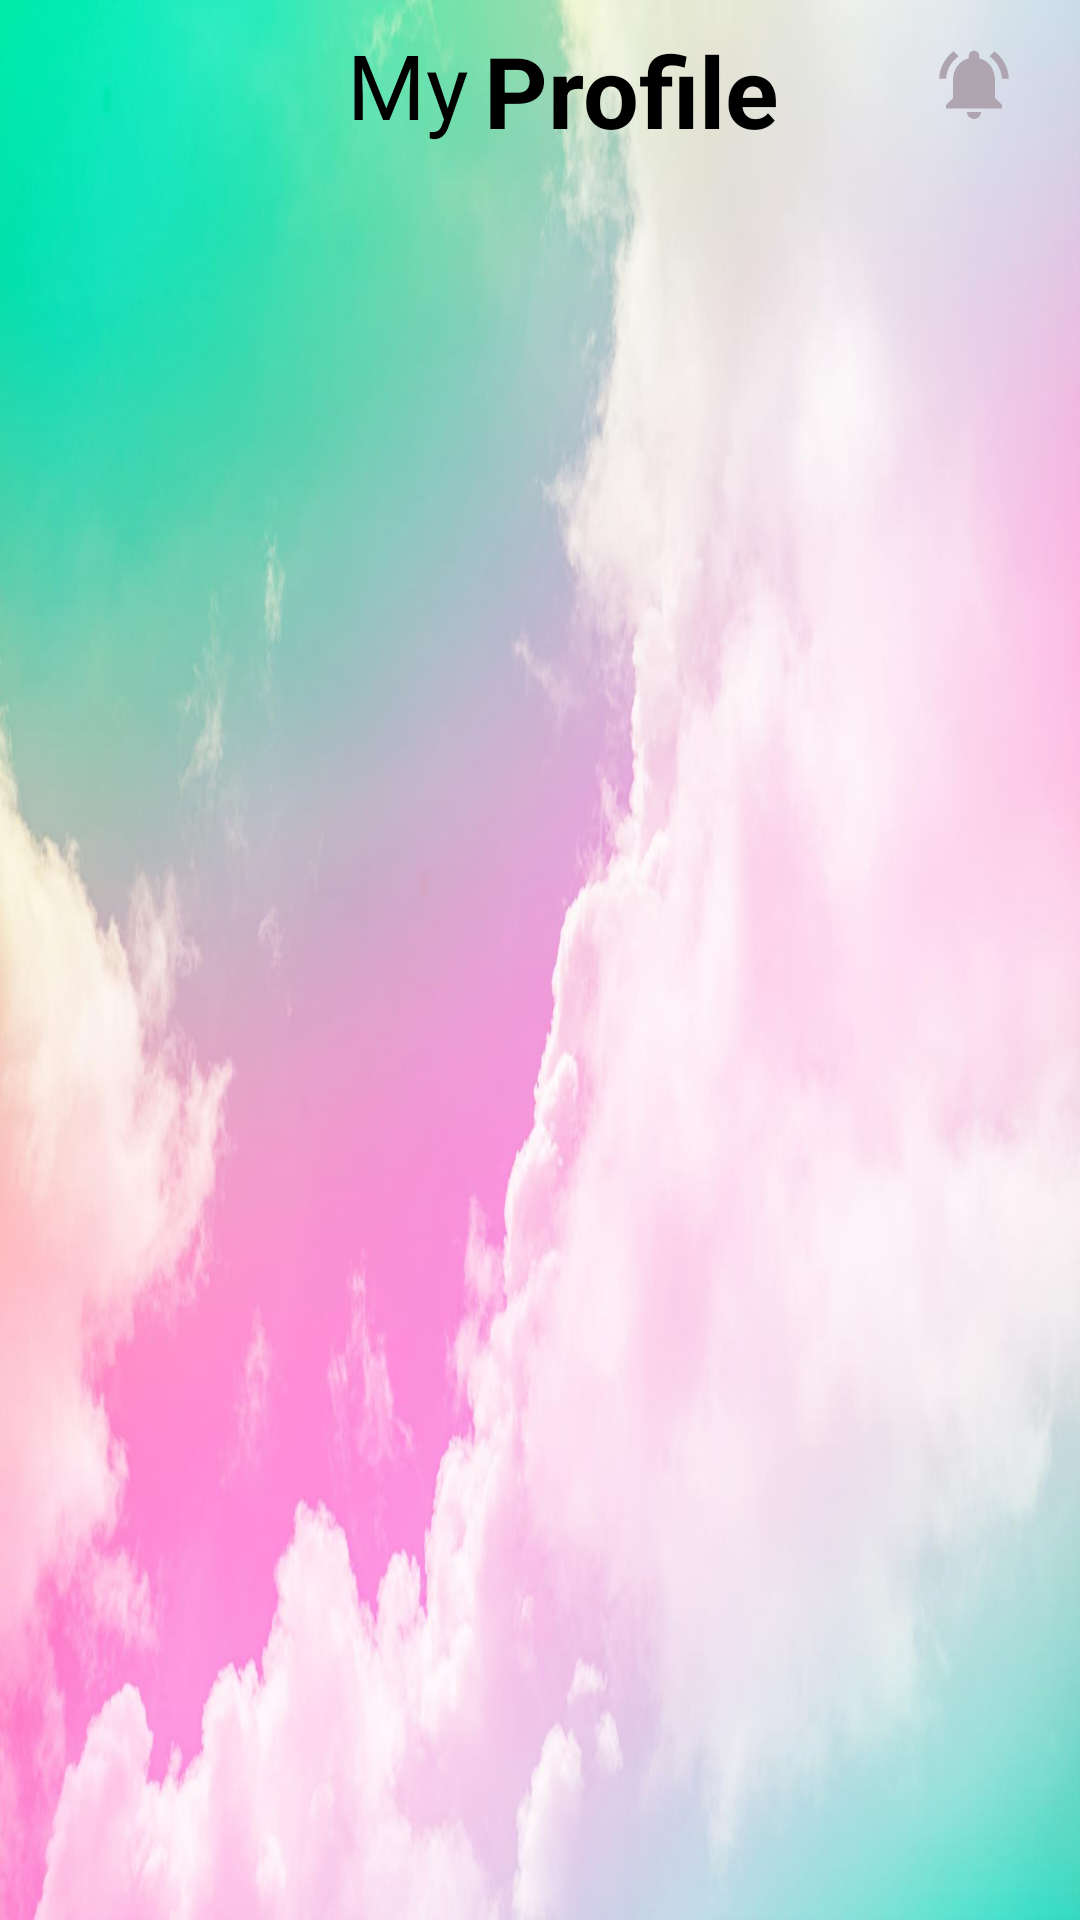

Where icons sit on this 1080px x 1920px app screen, as (x1, y1, x2, y2):
notifications: (939, 51, 1009, 119)
